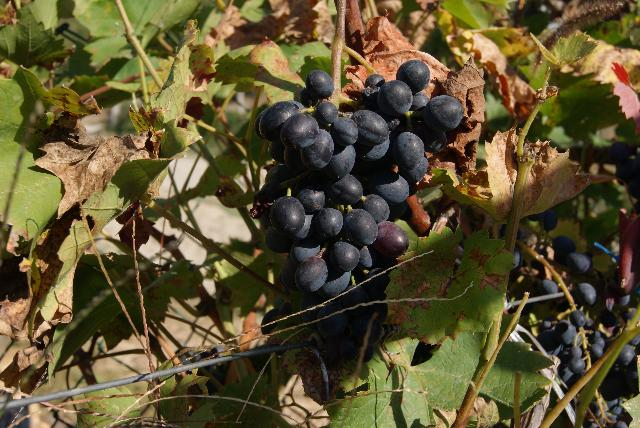grapes: (250, 60, 462, 300), (524, 235, 640, 386)
